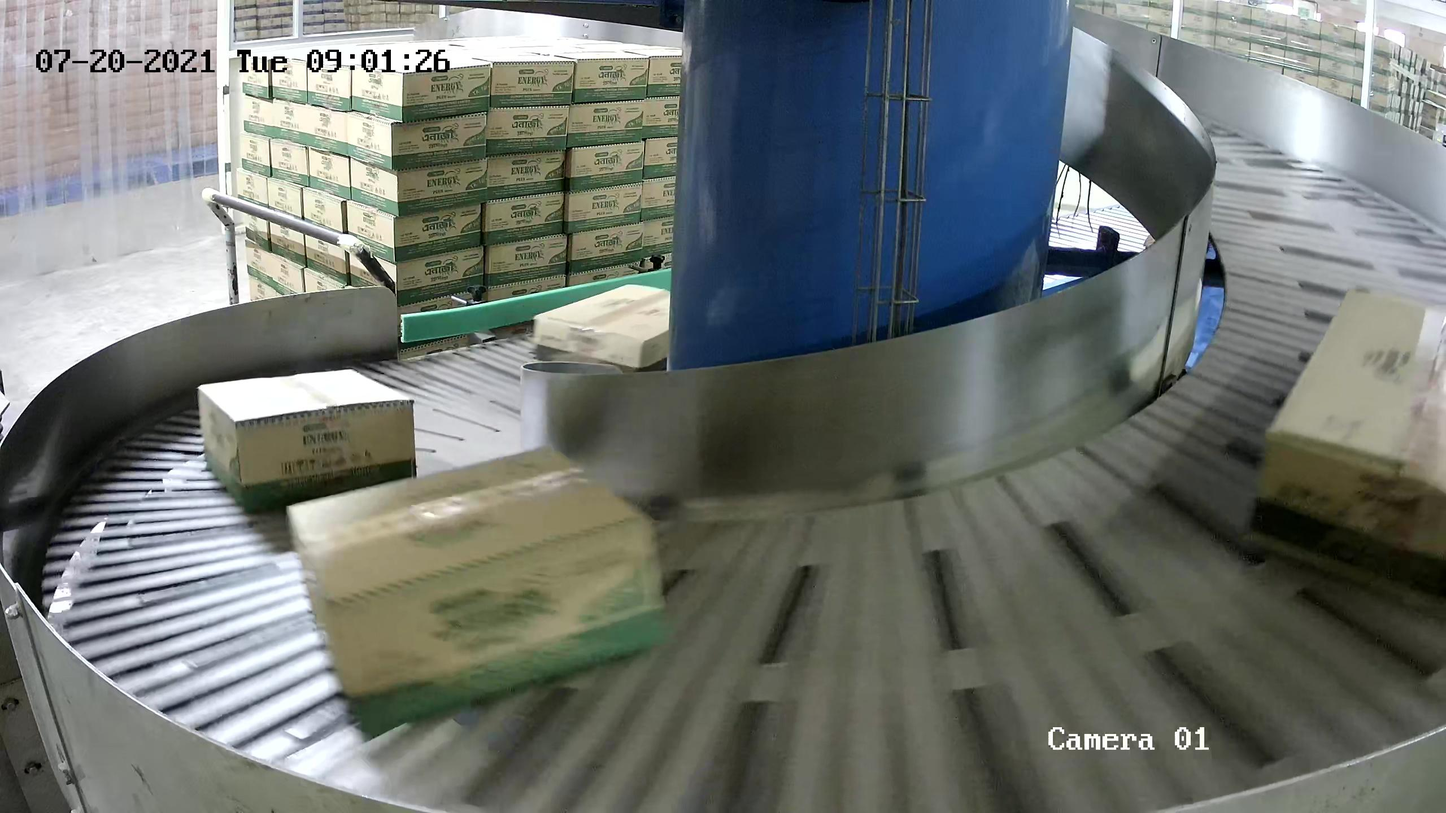Box: (285, 444, 673, 733), (1241, 285, 1446, 600), (196, 367, 420, 516), (532, 282, 710, 392)
